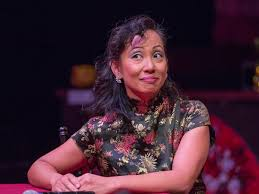asian_female: (104, 3, 196, 102)
